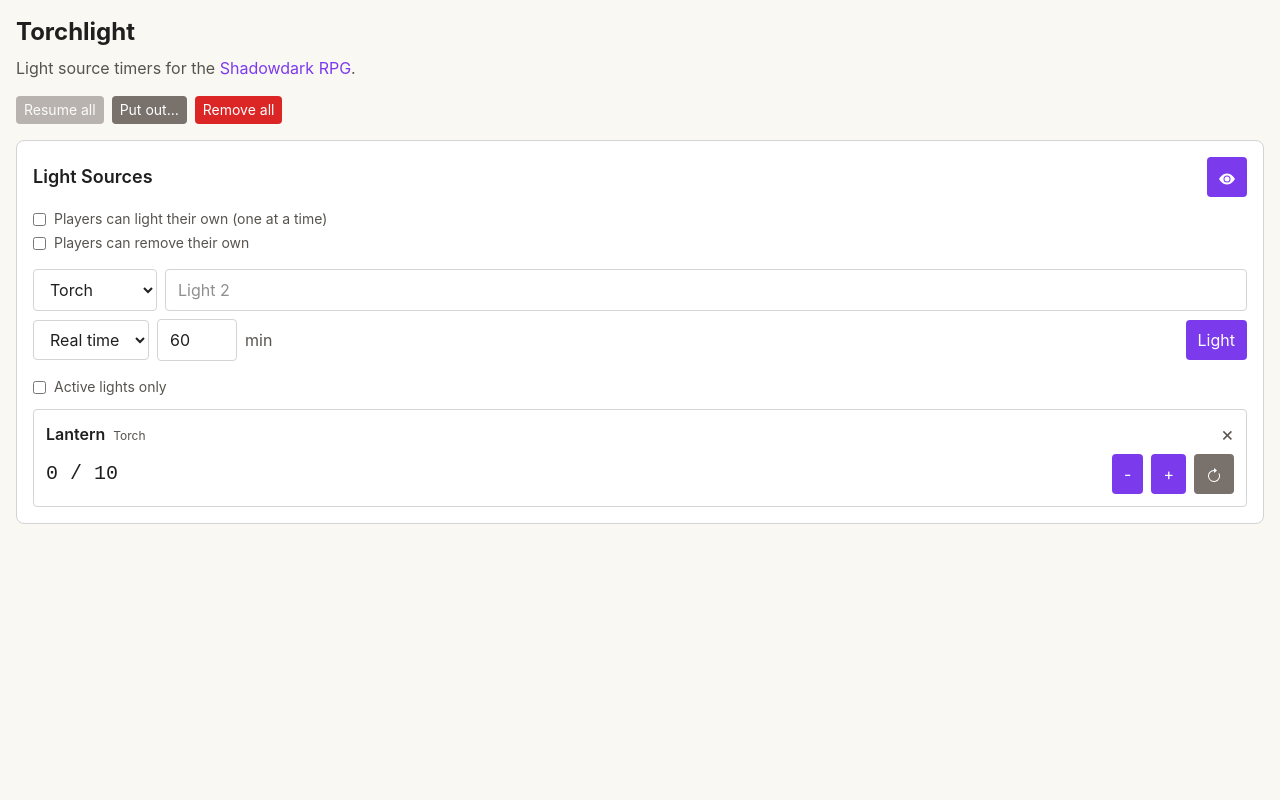
Test: Main (Torchlight) › fourth review fixes › shows another writer's change even when its rev is behind ours
Click the button titled "Burn a turn": (1169, 474) [1151,454,1186,494]
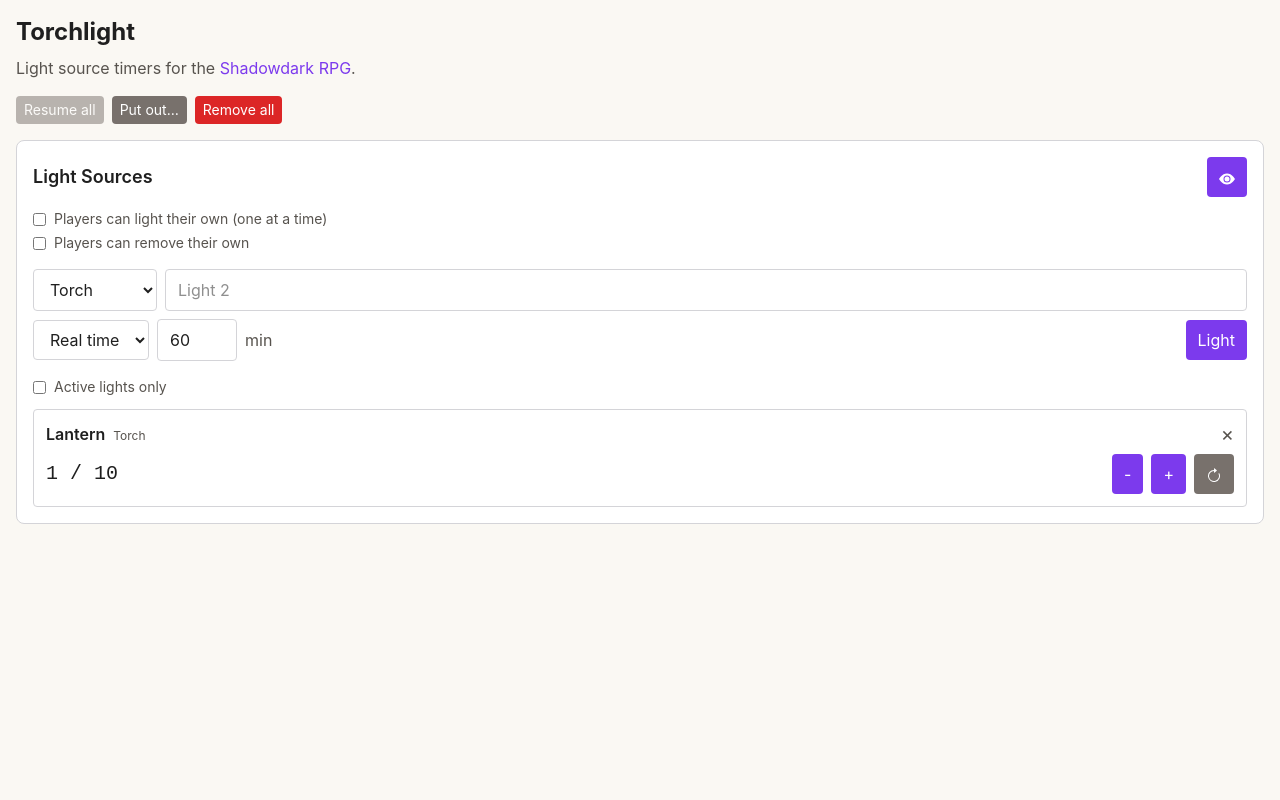
Click the button titled "Burn a turn": (1169, 474) [1151,454,1186,494]
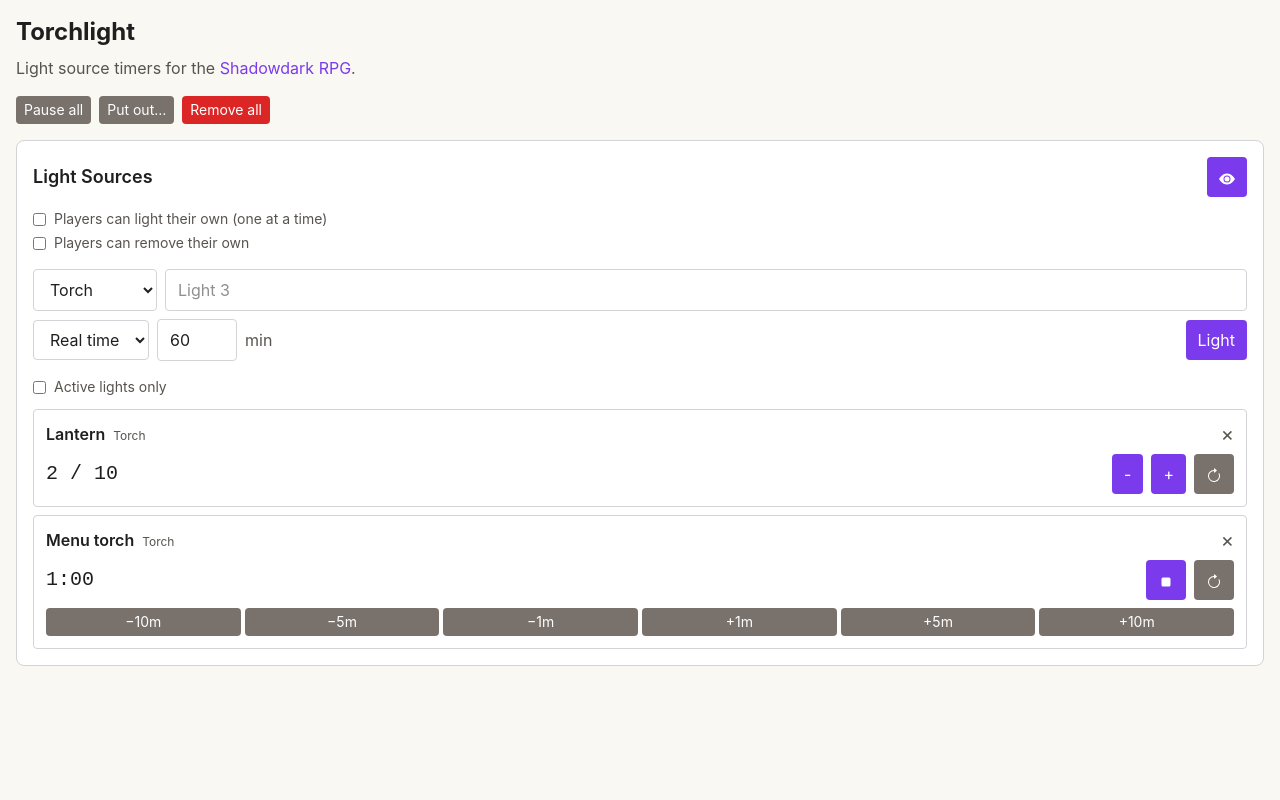
expect the text "Menu torch" is shown: met, box [46,530,134,550]
